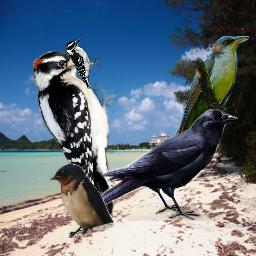Crow: (96, 109, 238, 221)
Cuckoo: (155, 36, 249, 189)
Swallow: (49, 163, 114, 238)
Woodpecker: (33, 51, 117, 218), (65, 39, 101, 89)
